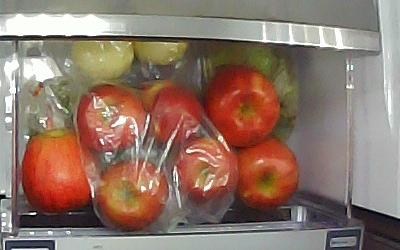apple: (22, 130, 102, 214), (203, 65, 279, 148), (237, 134, 299, 211)
apple_vinyl: (96, 161, 170, 229), (77, 84, 148, 154), (175, 139, 237, 203), (154, 87, 205, 151)
